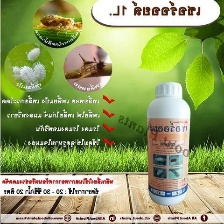insecticide: (143, 79, 194, 208)
